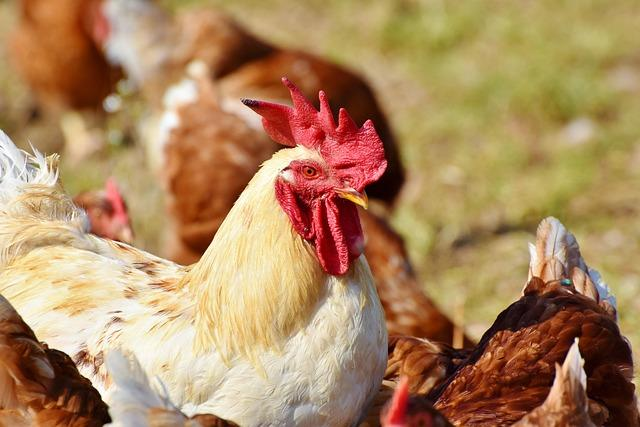Non_Gorille: (32, 15, 607, 424)
